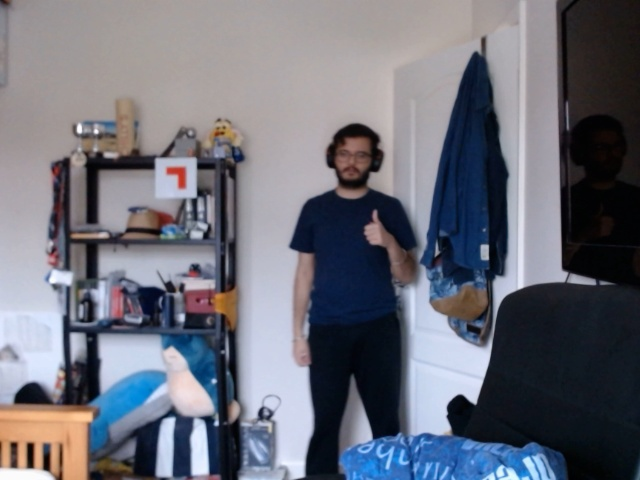Thumbs up: (357, 206, 393, 257)
